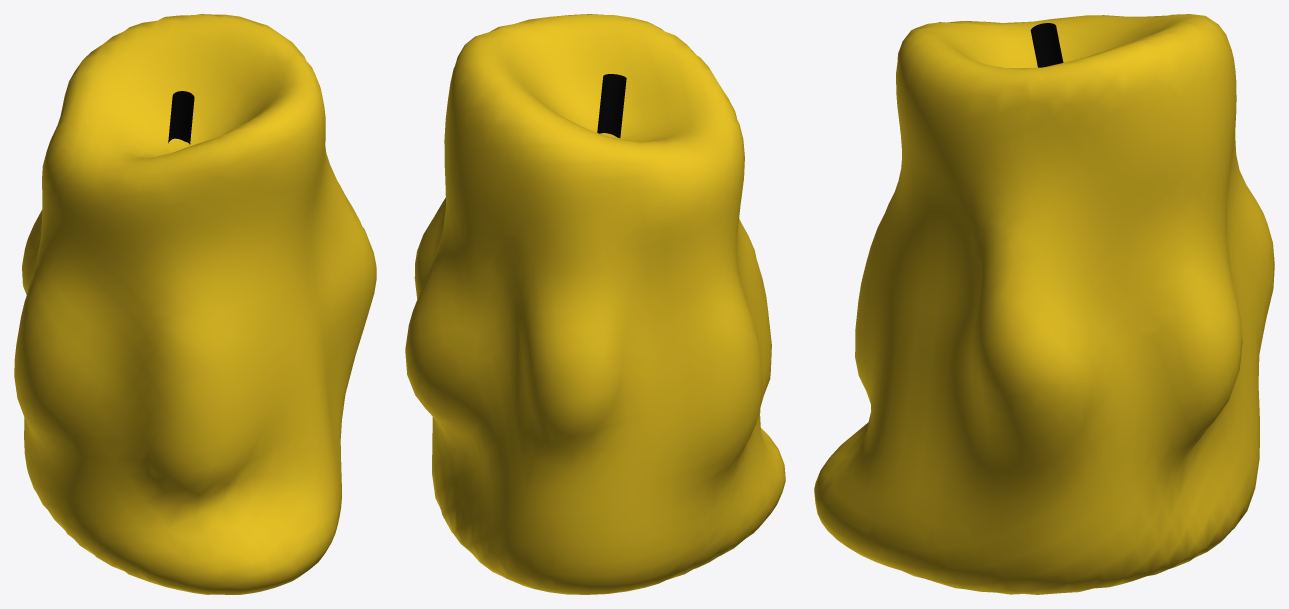
File: candle.fbx
3 renders of one model, left to right at view 1: azimuth 30°, elevation 25°; view 2: azimuth 150°, elevation 25°; view 3: azimuth 270°, elevation 25°, orthographic. The views are drawn at different scales.
Visible parts, largest first — view 1: candle; view 2: candle; view 3: candle.
Boxes of the visible parts, x1,y1,x2,y2 form: candle: (14, 14, 376, 594); candle: (405, 14, 785, 594); candle: (814, 14, 1274, 594).
Size of the model in its own units: 6.09 by 8.22 by 6.31.
